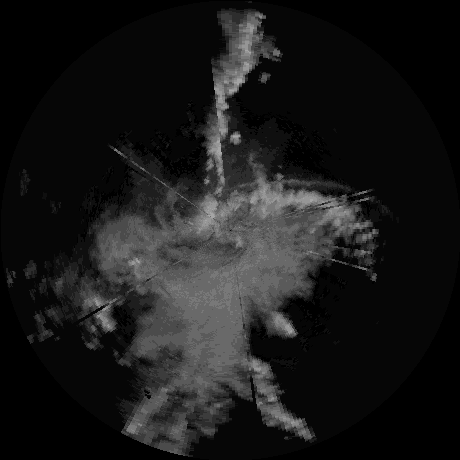frontgust: (231, 176, 354, 192)
